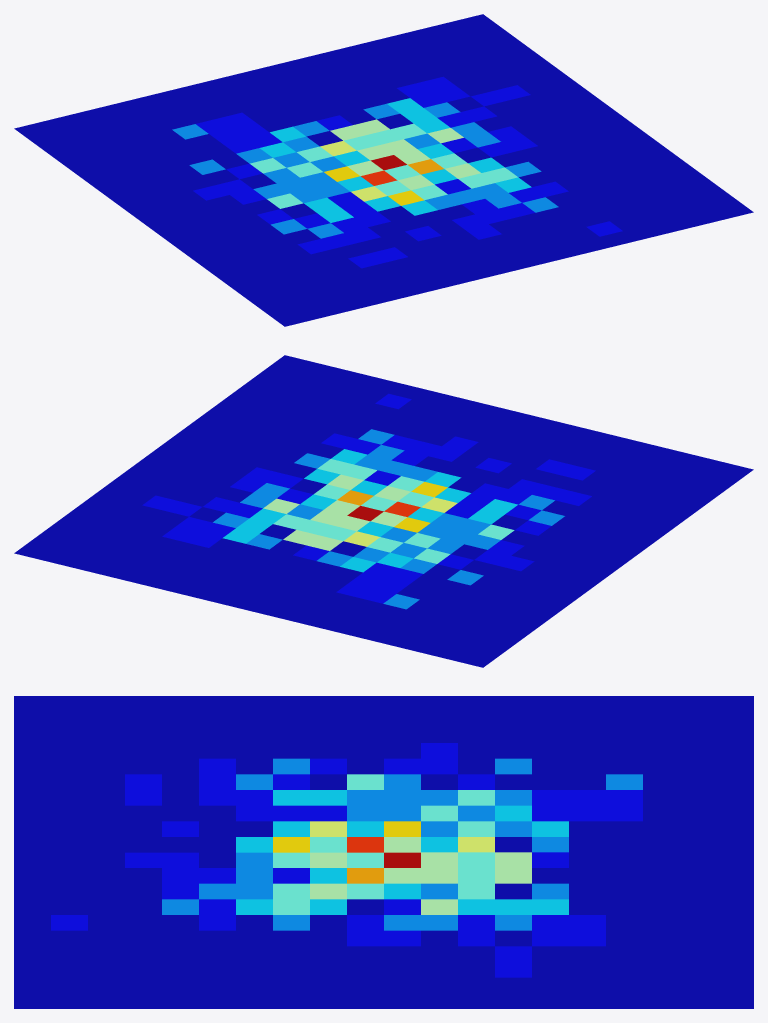
3 views of the same model, one above another, from view 1: azimuth 30°, elevation 25°; view 2: azimuth 150°, elevation 25°; view 3: azimuth 270°, elevation 25° (orthographic). The views are drawn at different scales.
Visible parts, largest first — view 1: output7; view 2: output7; view 3: output7.
Part boxes in pixels (<box>): output7: <box>14,14,753,326</box>; output7: <box>14,355,753,667</box>; output7: <box>14,696,753,1008</box>.
Bounding box in the file's own units: 20 × 3.37e-06 × 20.
